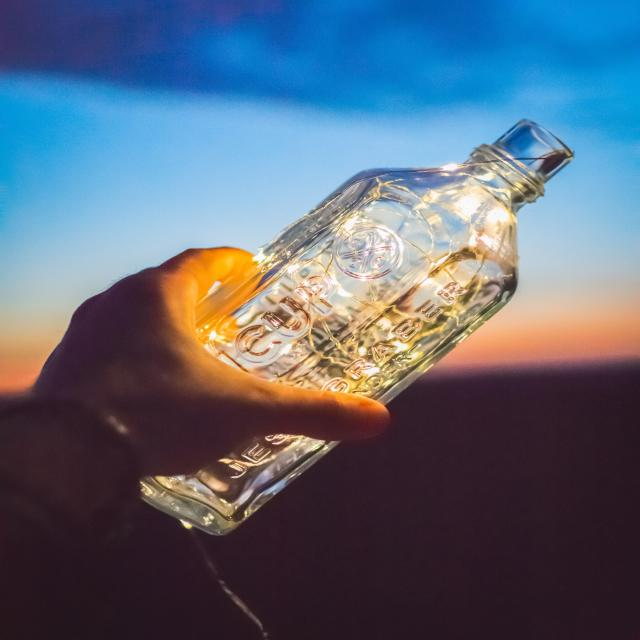plastic_bottle: (136, 117, 575, 537)
